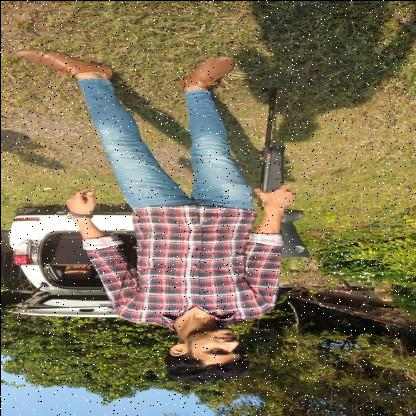rifle: (252, 84, 312, 258)
